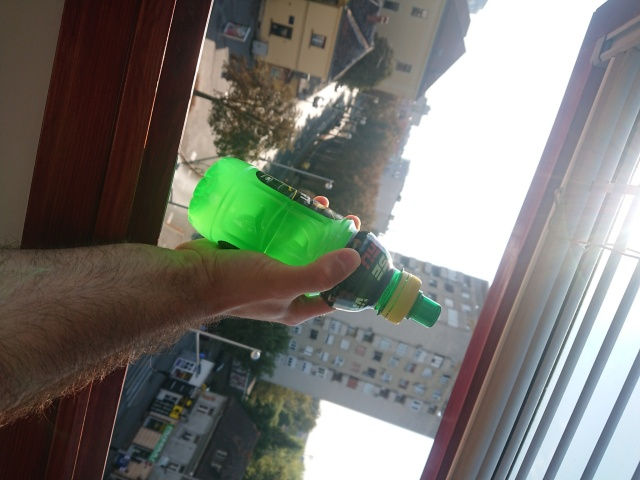Vindi Iso Sport Lemon-Grapefruit 500mL: (183, 154, 444, 331)
